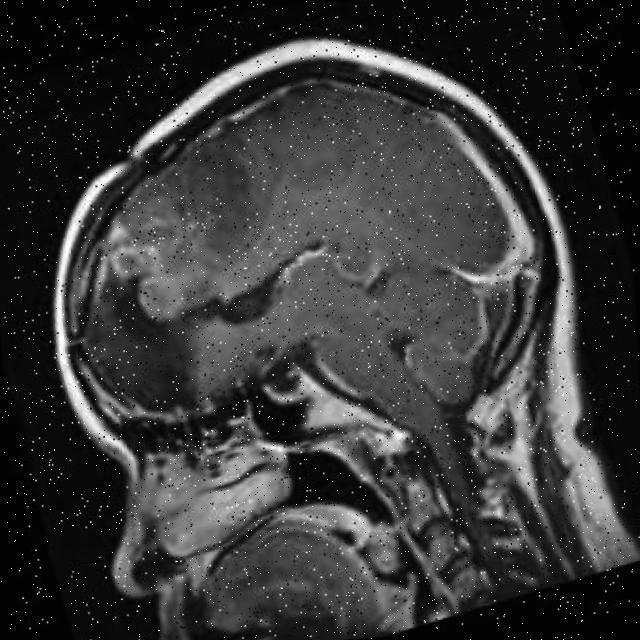CN: (70, 181, 265, 381)
